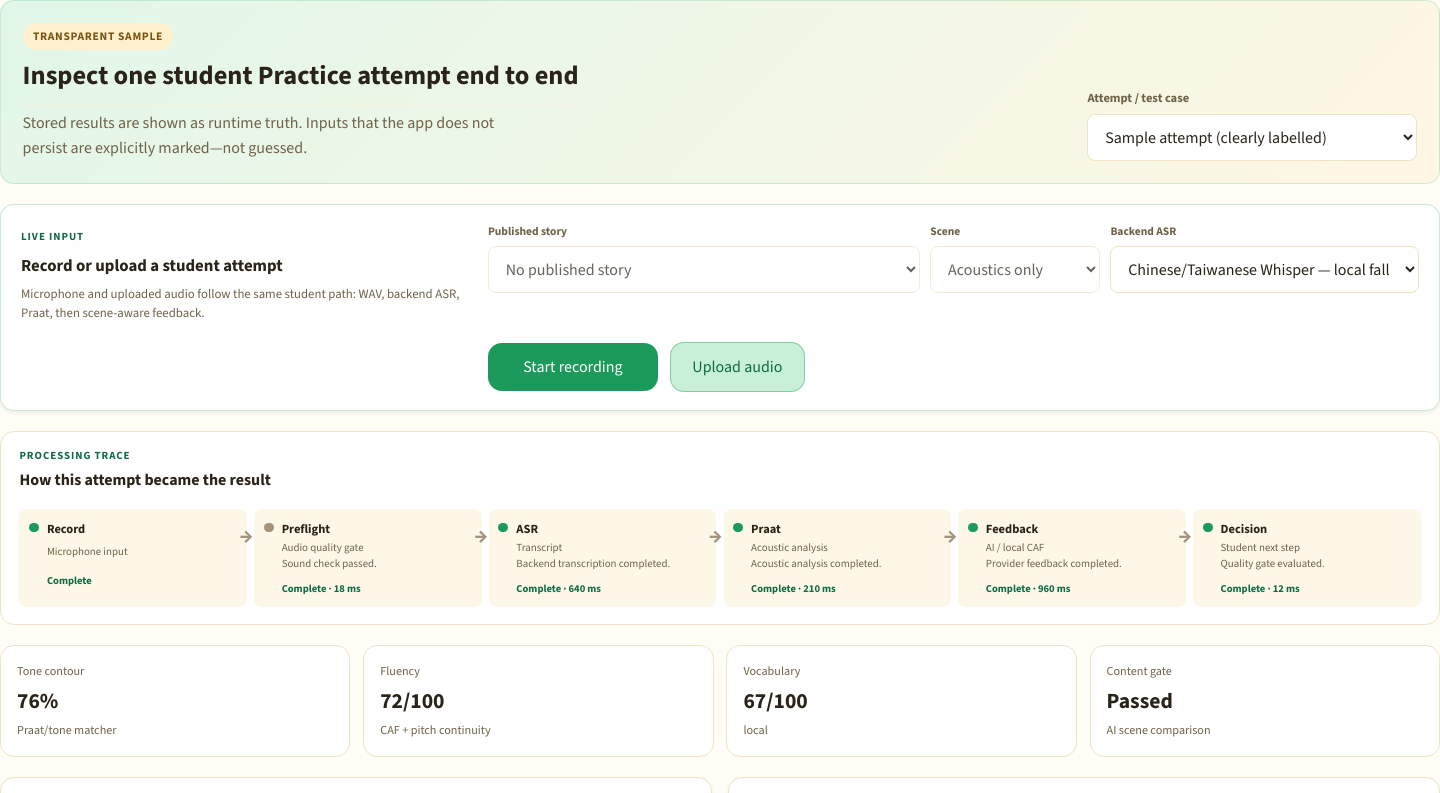
Test: TeacherPracticeDebugPage › shows the failed capture stage and hides stale scores when microphone access fails
Step 1. Click the button "Start recording" → point(573, 367), box [488, 343, 658, 391]
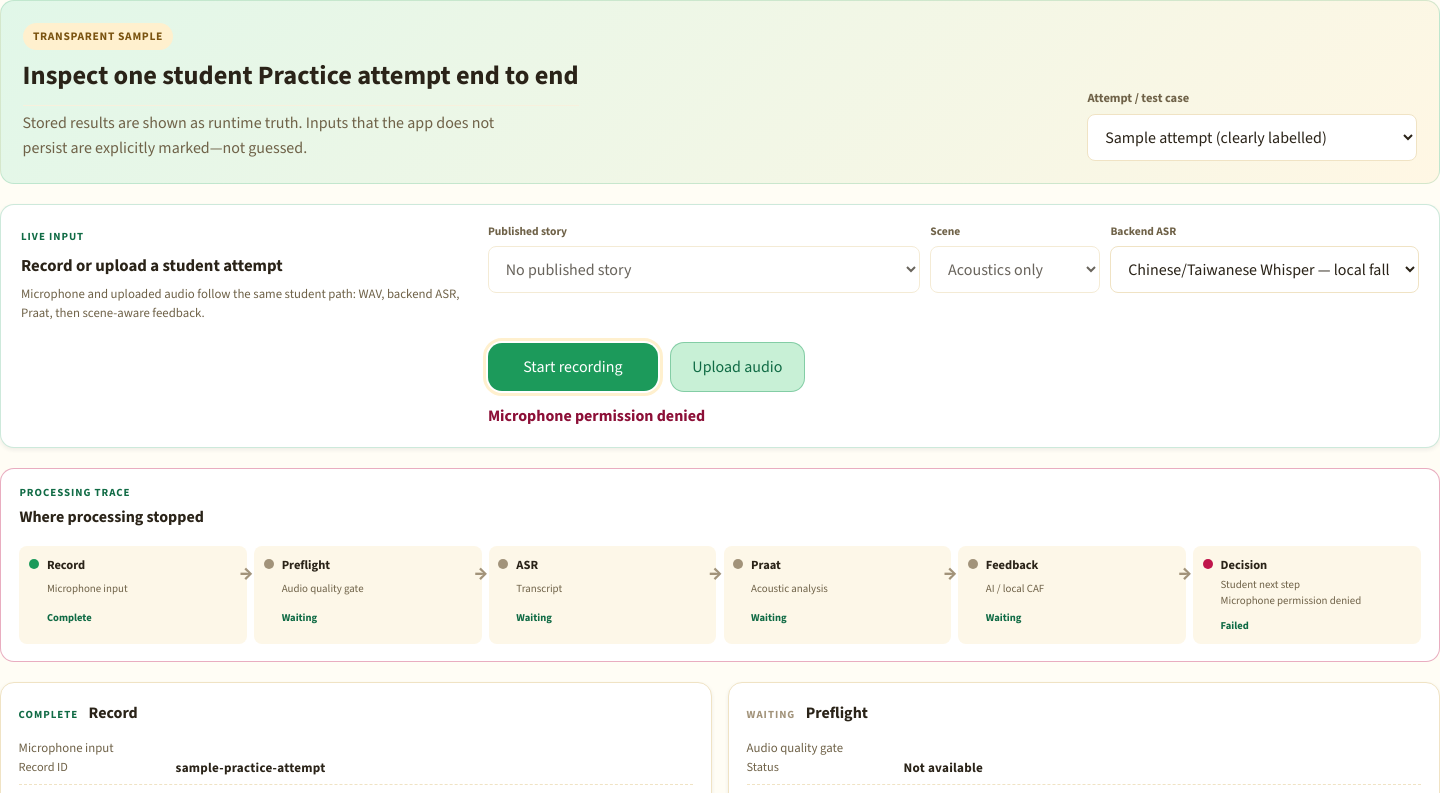
expect the message reads "Microphone permission denied": met, box [488, 405, 705, 426]
expect the heading "Where processing stopped" is shown: met, box [19, 505, 204, 530]
expect the text "Failed" is shown: met, box [1221, 618, 1249, 632]
